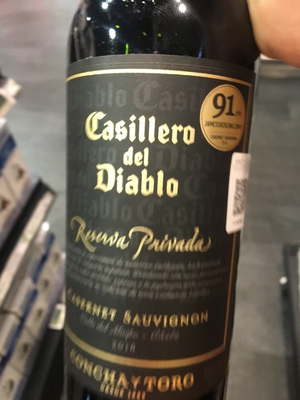casillero del diablo reserva privada cabernet sauvignon: (61, 6, 258, 400)
